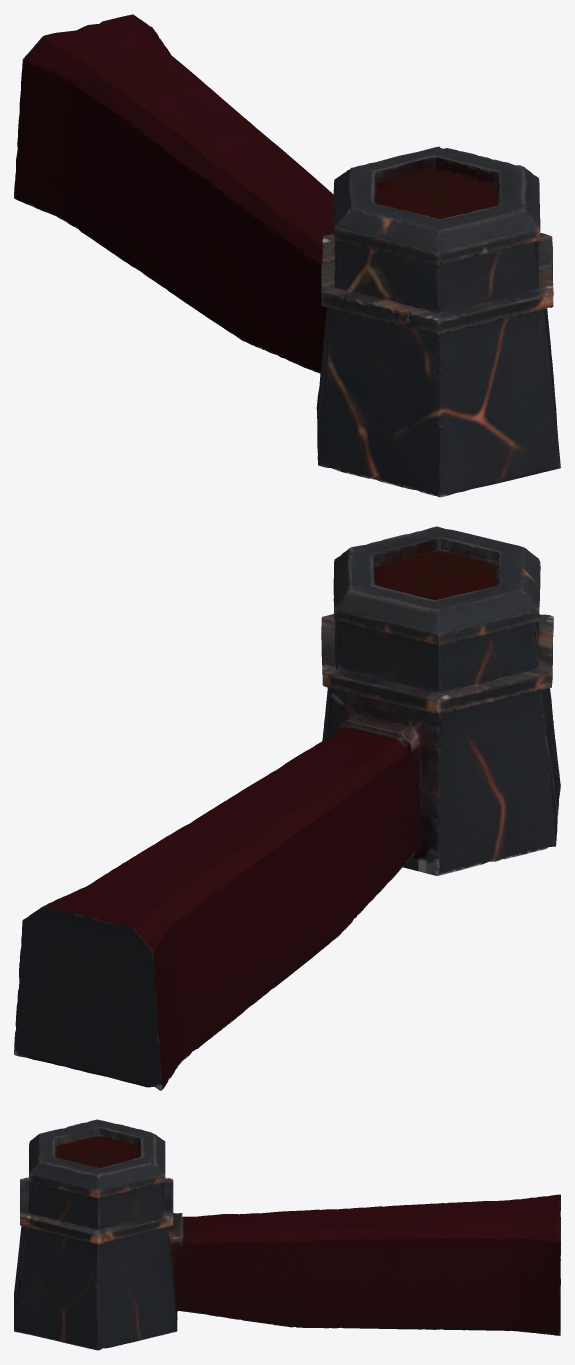
The model's file is rodin_Forge_Column_raw.glb.
The picture shows the model from 3 angles, top to bottom: view 1: azimuth 30°, elevation 25°; view 2: azimuth 150°, elevation 25°; view 3: azimuth 270°, elevation 25°; orthographic projection. The views are drawn at different scales.
Visible parts, largest first — view 1: model; view 2: model; view 3: model.
Part boxes in pixels (left/top/right/bottom): model: left=14, top=14, right=560, bottom=497; model: left=14, top=526, right=560, bottom=1090; model: left=14, top=1119, right=560, bottom=1350.
Bounding box in the file's own units: 0.628 × 0.6302 × 1.89.
Materials: 1 (1 with a texture image).
